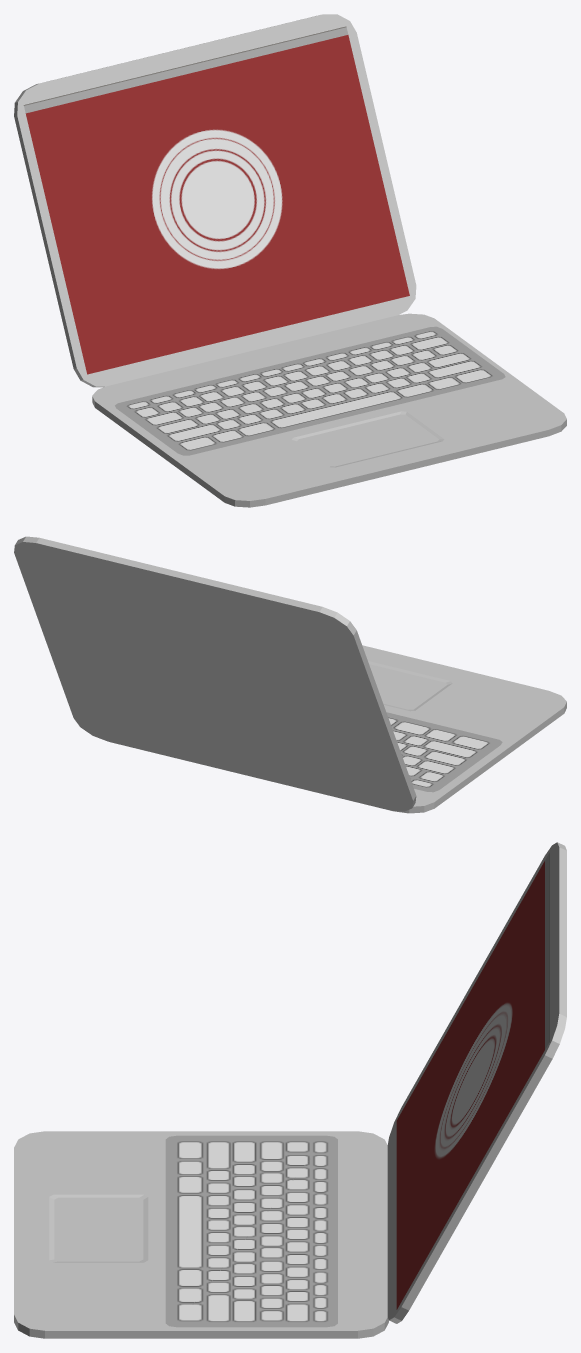
File: Laptop.fbx
3 renders of one model, top to bottom at view 1: azimuth 30°, elevation 25°; view 2: azimuth 150°, elevation 25°; view 3: azimuth 270°, elevation 25°, orthographic. The views are drawn at different scales.
Visible parts, largest first — view 1: Laptop Screen Keyboard, Laptop Case; view 2: Laptop Case, Laptop Screen Keyboard; view 3: Laptop Screen Keyboard, Laptop Case.
Boxes of the visible parts, x1,y1,x2,y2 form: Laptop Screen Keyboard: (23,26,505,455); Laptop Case: (14,14,566,507); Laptop Case: (14,536,566,813); Laptop Screen Keyboard: (386,712,502,792); Laptop Screen Keyboard: (165,853,549,1327); Laptop Case: (14,842,566,1338).
Size of the model in its own units: 33.15 by 23.9 by 38.81.
